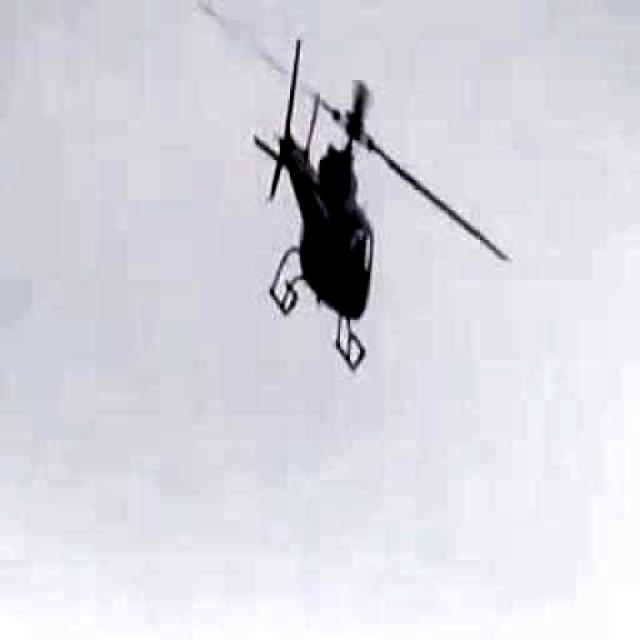drone: (111, 0, 509, 435)
